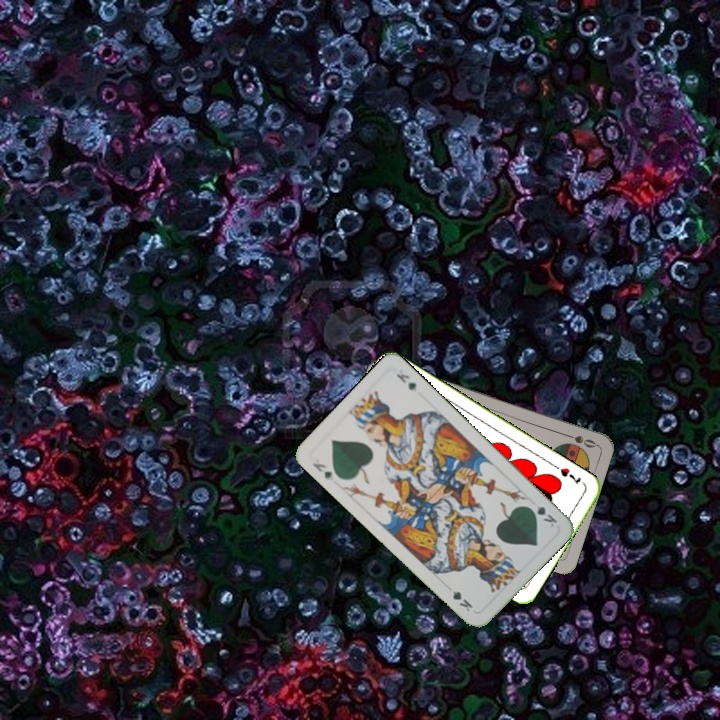GK: (524, 502, 560, 530), (308, 459, 336, 484)
H7: (556, 464, 584, 487)
SO: (559, 429, 599, 450)
